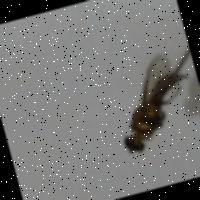Oriental-fruit-fly: (95, 43, 200, 162)
